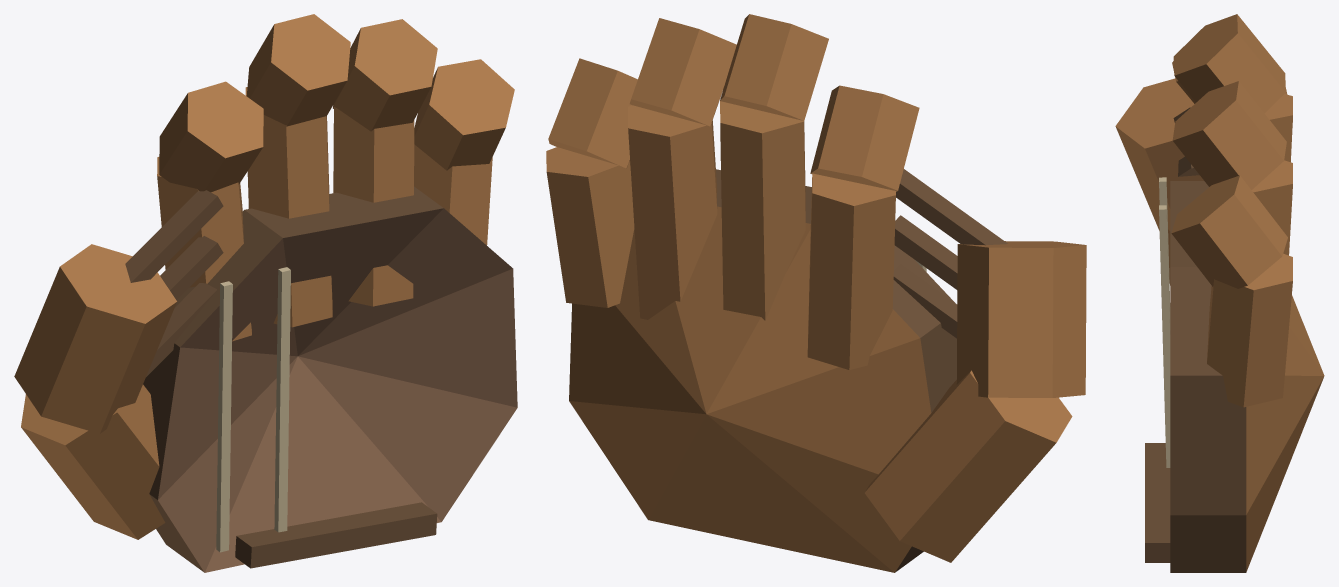
Rendered from b17_baseball_fielders_glove.glb.
The picture shows the model from 3 angles, left to right: view 1: azimuth 30°, elevation 25°; view 2: azimuth 150°, elevation 25°; view 3: azimuth 270°, elevation 25°; orthographic projection. The views are drawn at different scales.
Visible parts, largest first — view 1: b17_baseball_fielders_glove; view 2: b17_baseball_fielders_glove; view 3: b17_baseball_fielders_glove.
Boxes of the visible parts, <box> form: b17_baseball_fielders_glove: <box>14,14,517,572</box>; b17_baseball_fielders_glove: <box>546,14,1086,572</box>; b17_baseball_fielders_glove: <box>1115,14,1324,572</box>.
Size of the model in its own units: 0.217 by 0.2162 by 0.0827.
